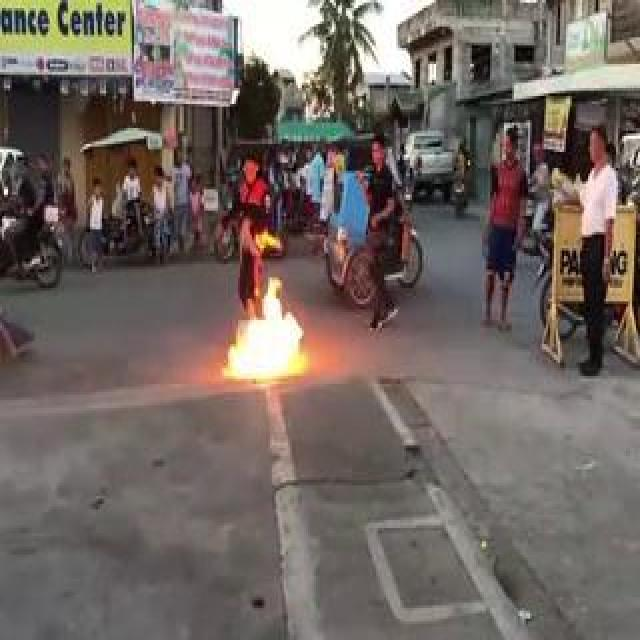Fire: (222, 285, 306, 384)
